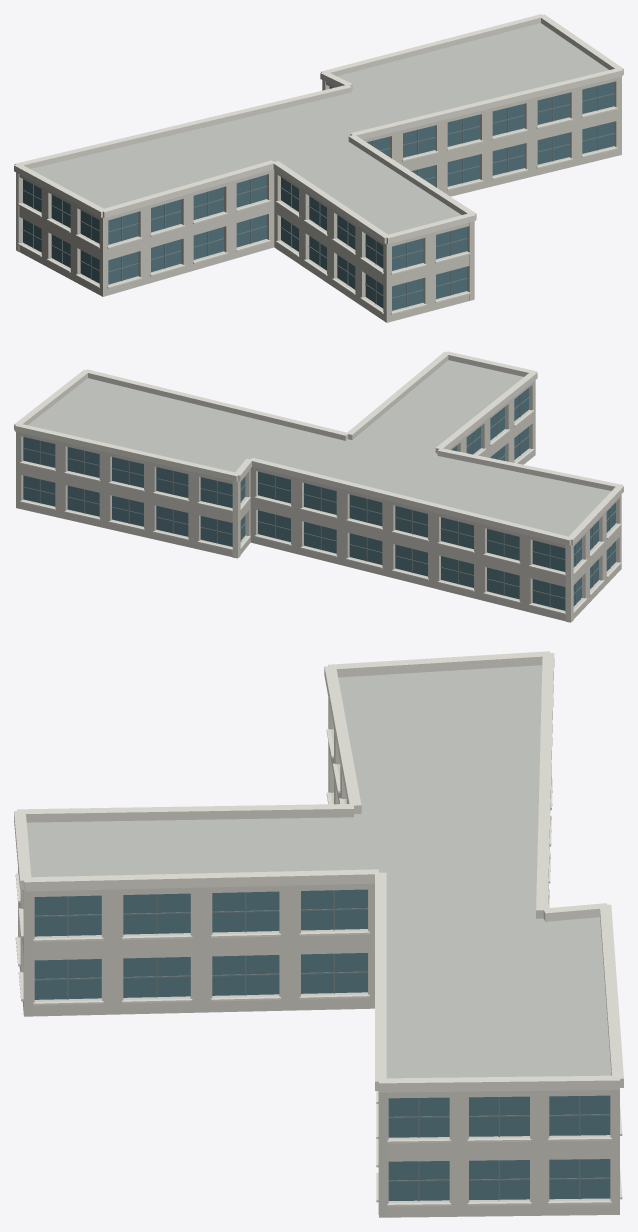
The picture shows the model from 3 angles, top to bottom: view 1: azimuth 30°, elevation 25°; view 2: azimuth 150°, elevation 25°; view 3: azimuth 270°, elevation 25°; orthographic projection. The views are drawn at different scales.
Visible parts, largest first — view 1: roof, wall, glass, trim, metal; view 2: roof, wall, glass, trim, metal; view 3: roof, wall, glass, trim, metal.
Boxes of the visible parts, left/top/right/bottom form: roof: left=30, top=23, right=608, bottom=234; wall: left=16, top=76, right=621, bottom=322; glass: left=23, top=82, right=614, bottom=310; trim: left=14, top=14, right=623, bottom=314; metal: left=22, top=86, right=614, bottom=307; roof: left=28, top=360, right=611, bottom=536; wall: left=16, top=380, right=621, bottom=622; glass: left=23, top=388, right=615, bottom=610; trim: left=14, top=351, right=623, bottom=614; metal: left=23, top=394, right=616, bottom=607; roof: left=26, top=665, right=611, bottom=1078; wall: left=18, top=698, right=619, bottom=1217; glass: left=34, top=889, right=610, bottom=1200; trim: left=14, top=651, right=623, bottom=1206; metal: left=34, top=890, right=610, bottom=1201.
Bounding box in the file's own units: 43.87 × 6.44 × 26.17.
